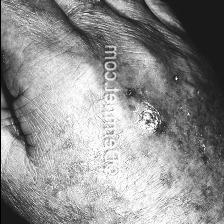Potentially Malignant Skin Tumors: (130, 92, 180, 128)
